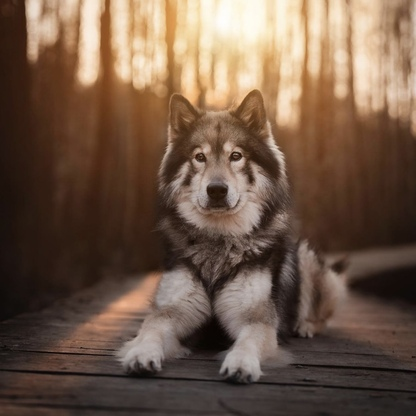husky: (108, 85, 355, 389)
